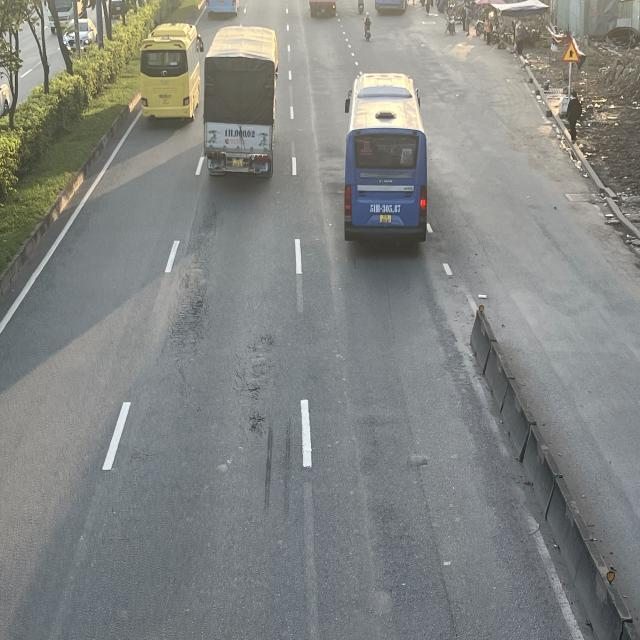coach: (343, 72, 428, 245), (141, 24, 205, 124)
truck: (200, 25, 278, 178)
